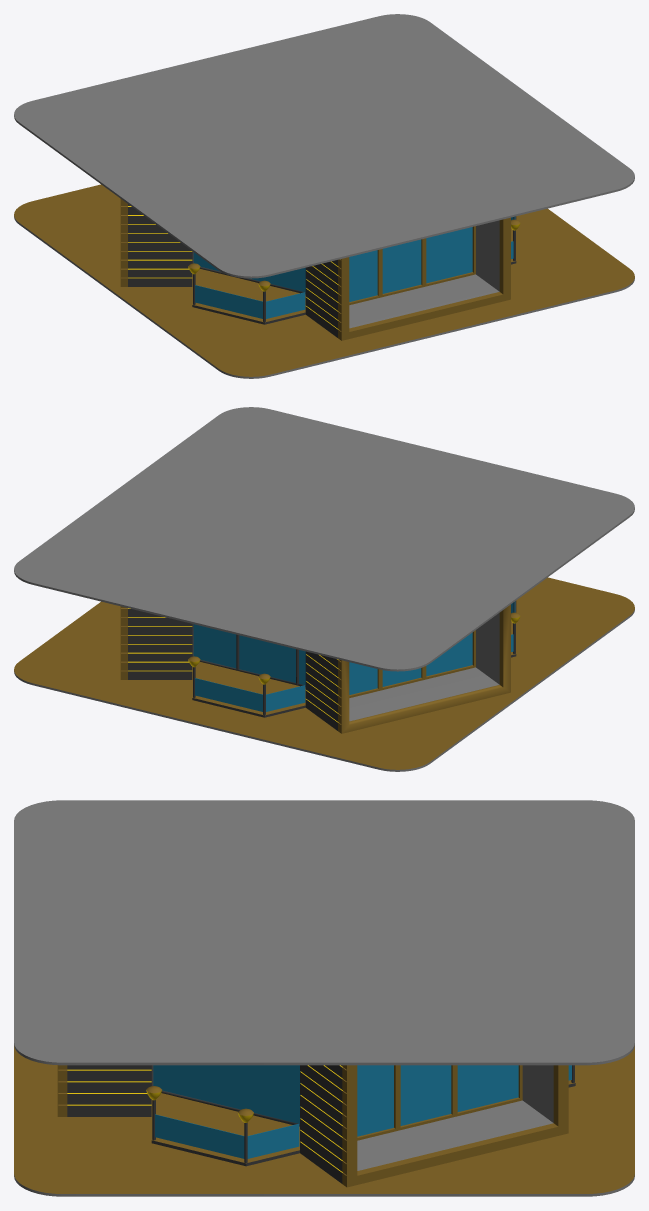
File: SM_MK12_Middle_002.fbx
The picture shows the model from 3 angles, top to bottom: view 1: azimuth 30°, elevation 25°; view 2: azimuth 150°, elevation 25°; view 3: azimuth 270°, elevation 25°; orthographic projection. The views are drawn at different scales.
Visible parts, largest first — view 1: SM_MK12_Middle_002; view 2: SM_MK12_Middle_002; view 3: SM_MK12_Middle_002.
Boxes of the visible parts, x1=… form: SM_MK12_Middle_002: x1=14, y1=14, x2=634, y2=378; SM_MK12_Middle_002: x1=14, y1=407, x2=634, y2=771; SM_MK12_Middle_002: x1=14, y1=800, x2=634, y2=1196.
Size of the model in its own units: 2100 by 500 by 2100.
